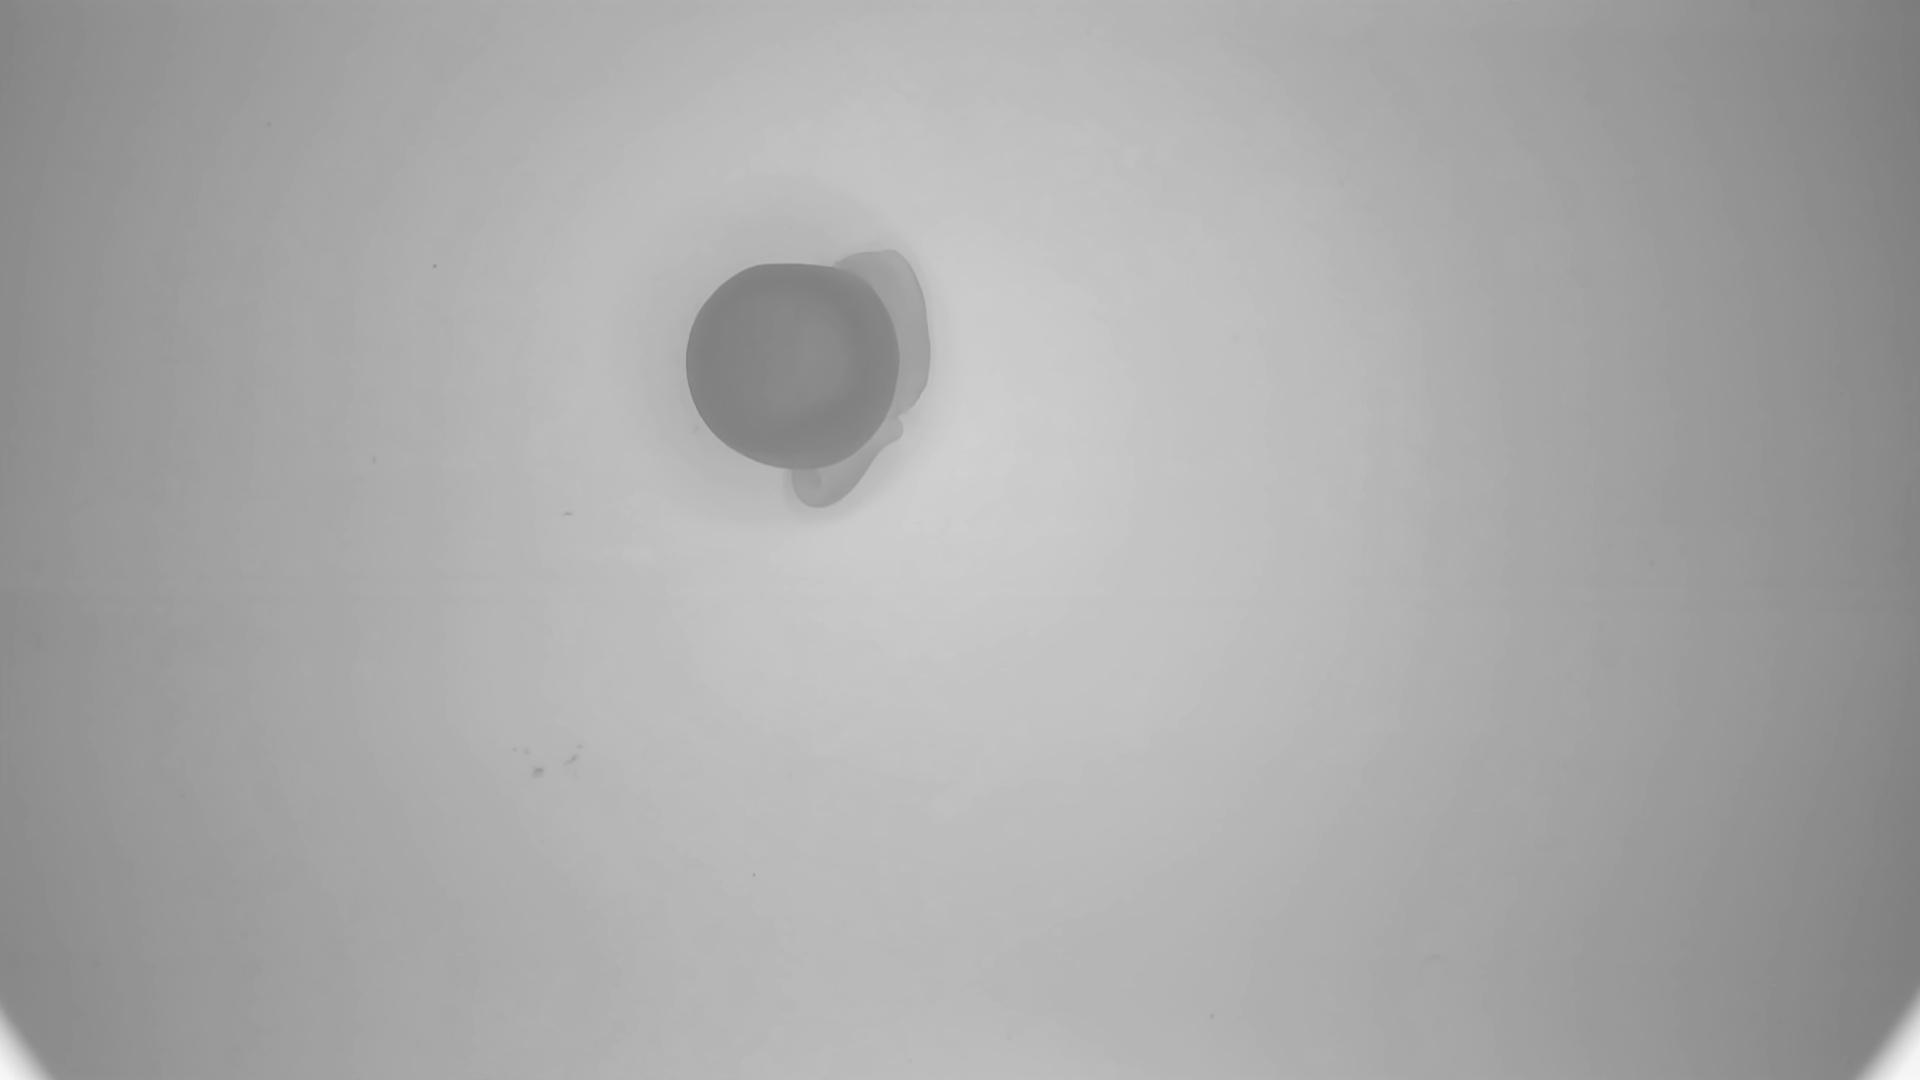abnormal: (684, 244, 935, 509)
